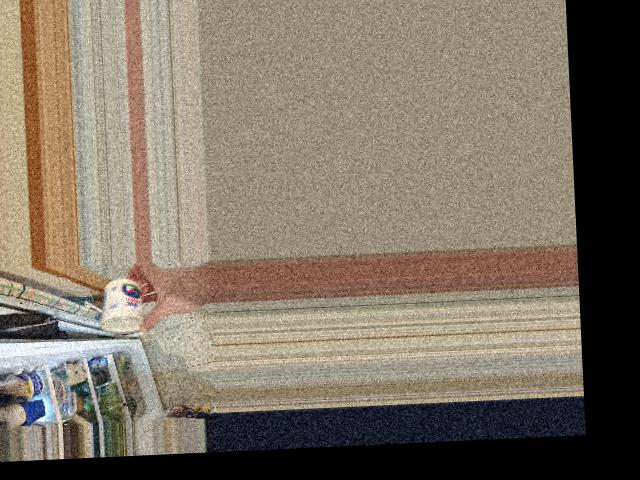cotage: (101, 277, 147, 329)
